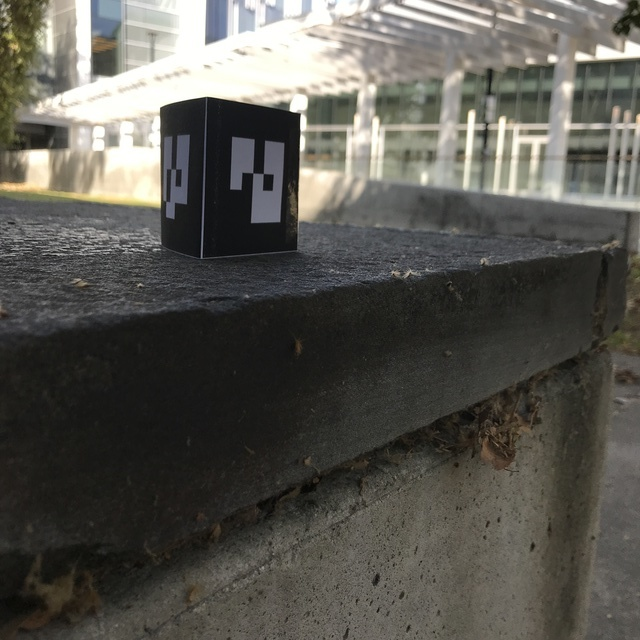ARTag: (159, 96, 302, 258)
